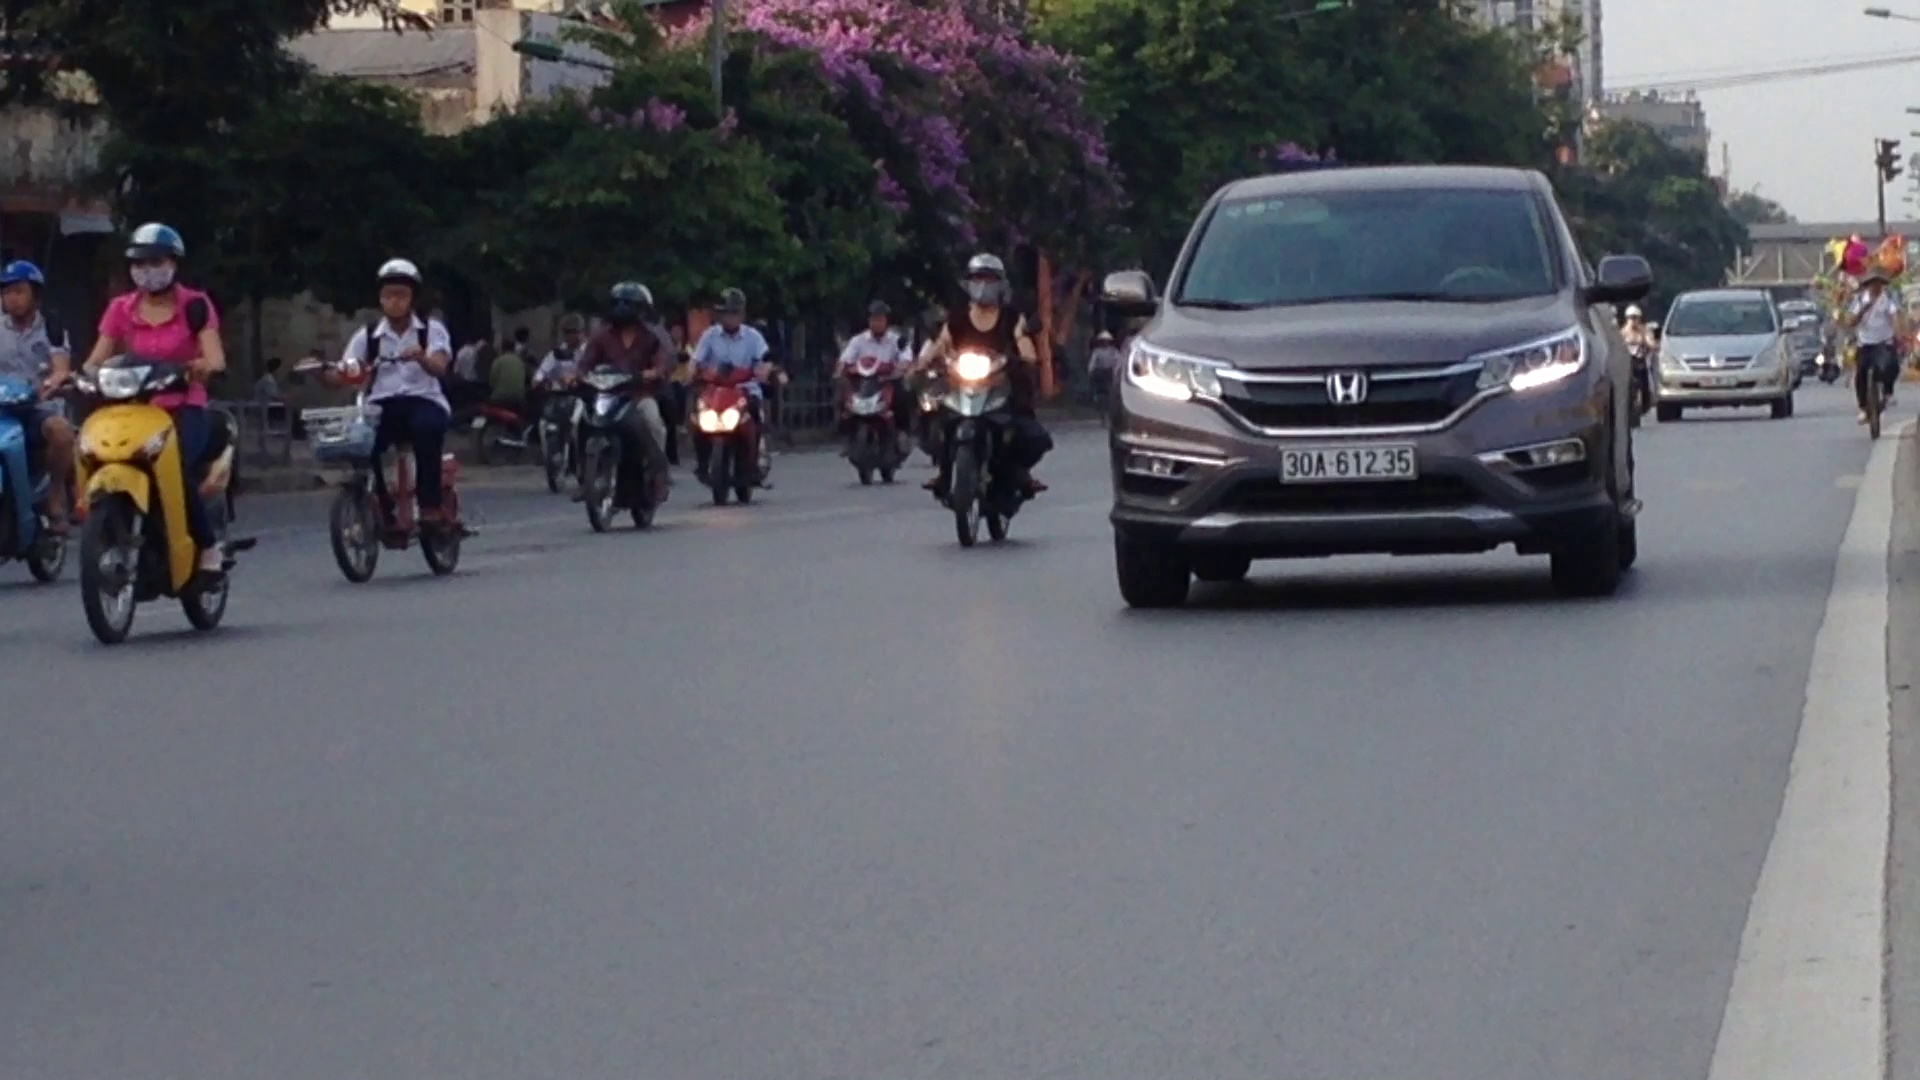person: (1276, 436, 1420, 483)
